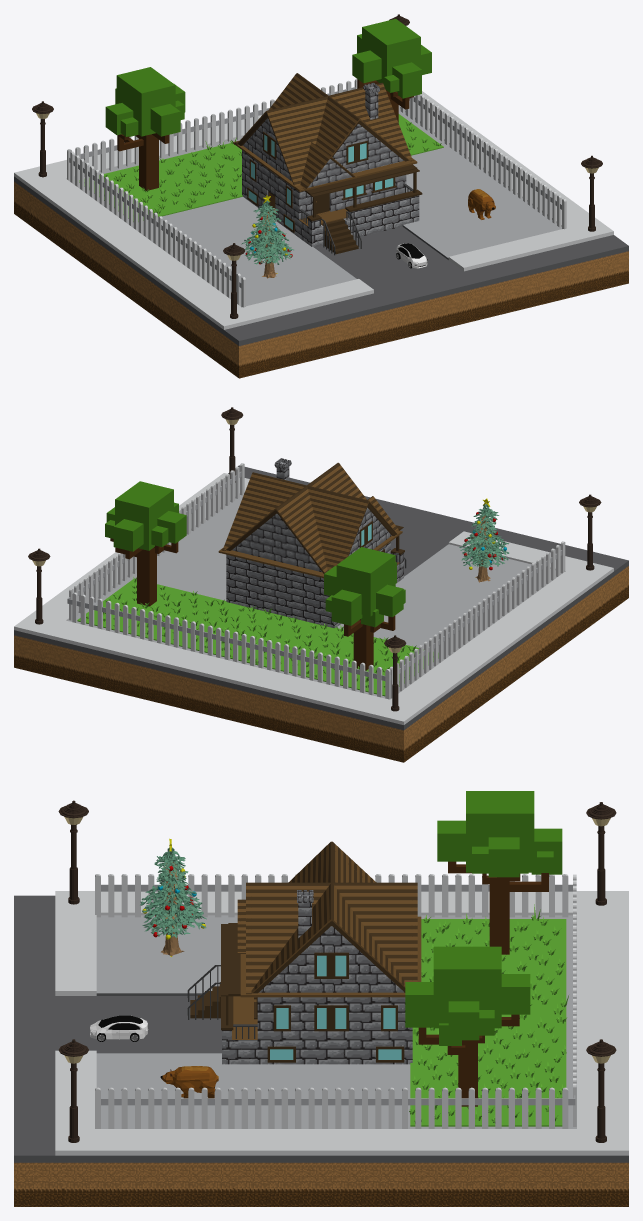
3 renders of one model, top to bottom at view 1: azimuth 30°, elevation 25°; view 2: azimuth 150°, elevation 25°; view 3: azimuth 270°, elevation 25°, orthographic. The views are drawn at different scales.
Visible parts, largest first — view 1: Cube.004, Cube.586, OBJRANDOM_CHRISTMAS_TREE, ANIMAL_OSO, VEHICLES_TESLA; view 2: Cube.004, Cube.586, OBJRANDOM_CHRISTMAS_TREE; view 3: Cube.004, Cube.586, OBJRANDOM_CHRISTMAS_TREE, VEHICLES_TESLA, ANIMAL_OSO.
Boxes of the visible parts, x1,y1,x2,y2 form: Cube.004: (14,14,628,378); Cube.586: (233,73,422,255); OBJRANDOM_CHRISTMAS_TREE: (241,195,293,278); ANIMAL_OSO: (468,189,495,219); VEHICLES_TESLA: (396,243,427,268); Cube.004: (14,407,628,762); Cube.586: (218,458,406,627); OBJRANDOM_CHRISTMAS_TREE: (459,498,509,582); Cube.004: (14,791,628,1206); Cube.586: (187,841,421,1064); OBJRANDOM_CHRISTMAS_TREE: (140,838,206,956); VEHICLES_TESLA: (90,1015,148,1041); ANIMAL_OSO: (160,1066,218,1098).
Bounding box in the file's own units: 4000 × 1633 × 4000.
31 materials, 5 textured.
